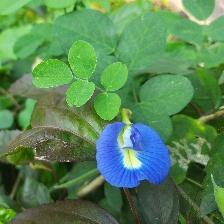shankupushpam: (95, 107, 174, 191)
